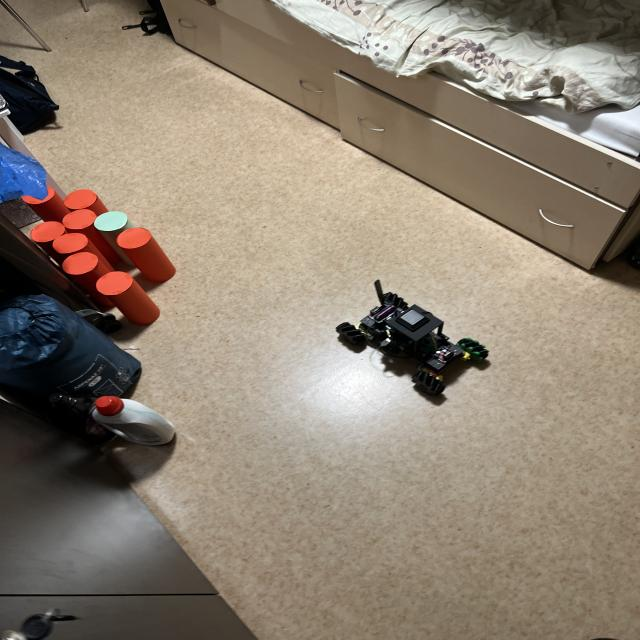robot: (336, 280, 488, 395)
